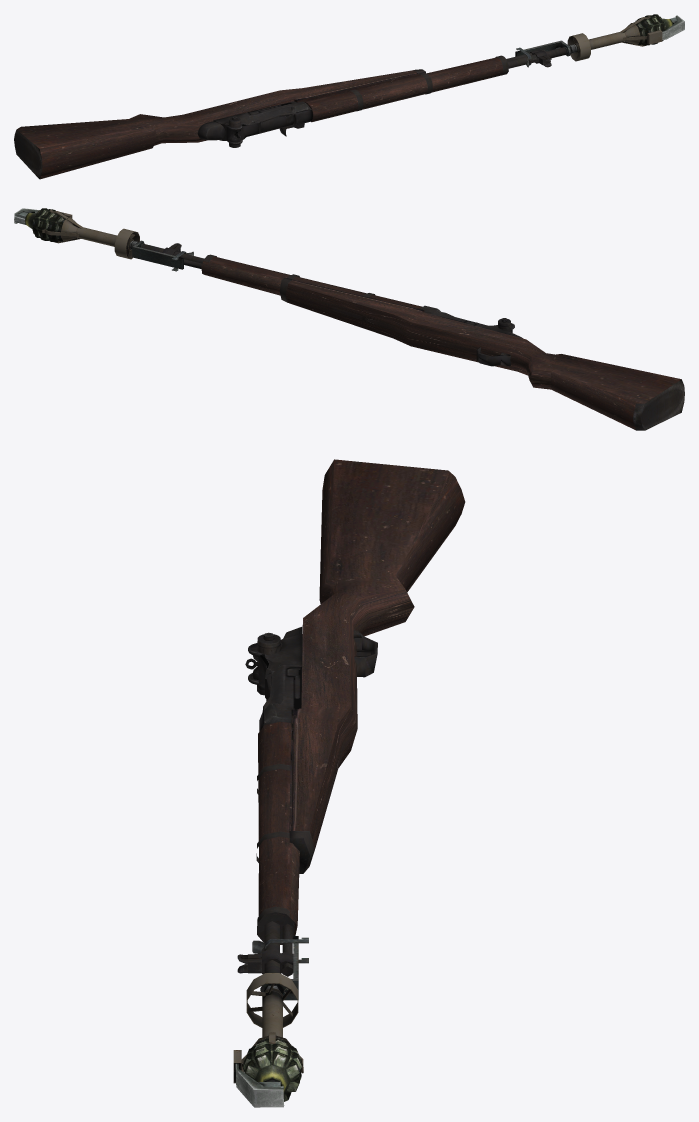
The model's file is weapon_usa_m1garand_rifle_grenade_LOD01.obj.
3 views of the same model, one above another, from view 1: azimuth 30°, elevation 25°; view 2: azimuth 150°, elevation 25°; view 3: azimuth 270°, elevation 25° (orthographic). The views are drawn at different scales.
Parts seen in each view (by area): view 1: TomGroup_3, TomGroup_0, TomGroup_1, TomGroup_2; view 2: TomGroup_3, TomGroup_0, TomGroup_1, TomGroup_2; view 3: TomGroup_3, TomGroup_0, TomGroup_2, TomGroup_1.
Boxes of the visible parts, <box> form: TomGroup_3: <box>16,57,506,179</box>; TomGroup_0: <box>14,47,566,178</box>; TomGroup_1: <box>515,16,662,67</box>; TomGroup_2: <box>633,14,684,45</box>; TomGroup_3: <box>201,256,681,430</box>; TomGroup_0: <box>141,243,684,430</box>; TomGroup_1: <box>42,209,193,271</box>; TomGroup_2: <box>14,208,65,242</box>; TomGroup_3: <box>258,459,465,944</box>; TomGroup_0: <box>237,627,377,976</box>; TomGroup_2: <box>235,1038,302,1107</box>; TomGroup_1: <box>233,936,308,1083</box>.
Bounding box in the file's own units: 135 × 7.24 × 21.58.
Materials: 4 (4 with a texture image).
